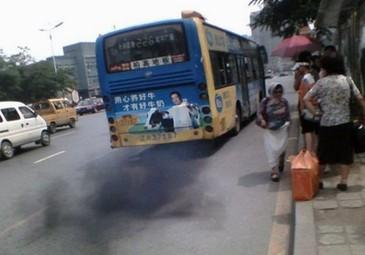smoke: (89, 150, 196, 226)
